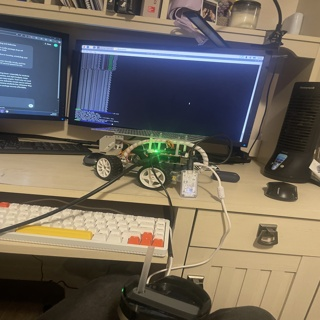vehicle: (89, 127, 208, 189)
